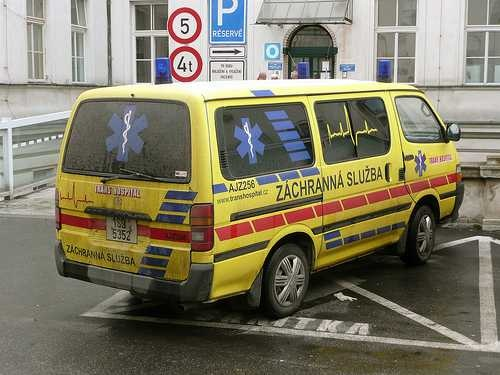Ambulance: (36, 63, 482, 323)
